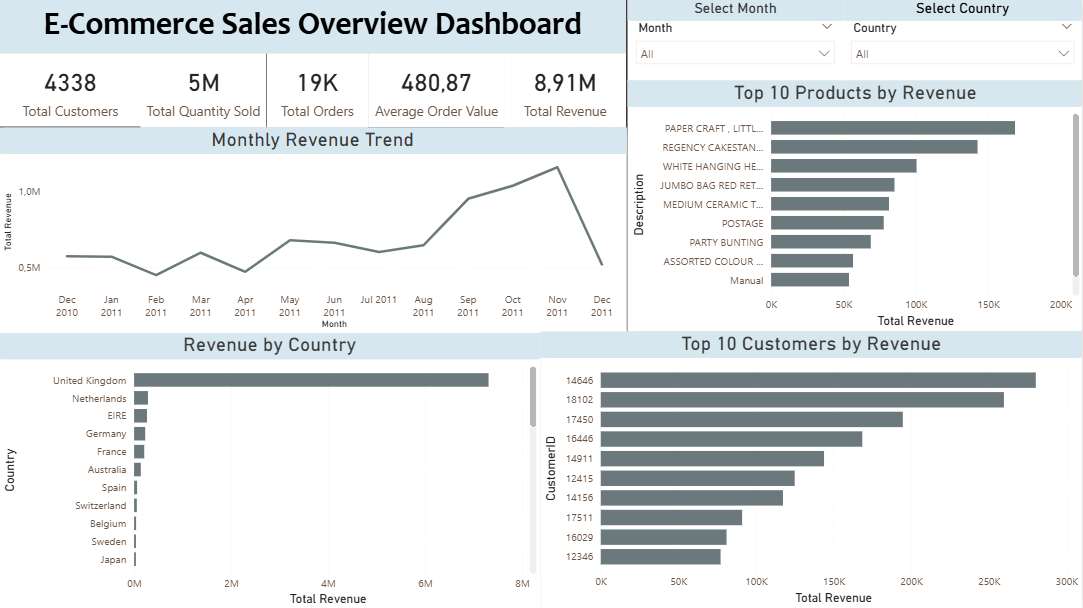

The page's visual inventory and layout, read from the dashboard file:
{"tool":"powerbi","page":{"name":"Sales Overview","canvas":[1280,720],"ordinal":0},"visuals":[{"type":"card","title":"Total Revenue","fields":{"Values":["Online Retail.Total Revenue"]},"box":[597.1,62.9,144.3,88.6],"z":0},{"type":"card","fields":{"Values":["Online Retail.Total Orders"]},"box":[316.1,62.9,119.4,88.7],"z":1000},{"type":"card","fields":{"Values":["Online Retail.Total Customers"]},"box":[0,62.9,168.6,87.1],"z":2000},{"type":"card","fields":{"Values":["Online Retail.Total Quantity Sold"]},"box":[167.7,62.9,148.4,88.7],"z":3000},{"type":"card","fields":{"Values":["Online Retail.Average Order Value"]},"box":[435.4,63.1,161.5,87.7],"z":4000},{"type":"lineChart","title":"Monthly Revenue Trend","fields":{"Y":["Online Retail.Total Revenue"],"Category":["Online Retail.Month"]},"box":[0,150,741.4,242.9],"z":5000},{"type":"clusteredBarChart","title":"Revenue by Country","fields":{"Y":["Online Retail.Total Revenue"],"Category":["Online Retail.Country"]},"box":[0,392.9,640,327.1],"z":6000},{"type":"clusteredBarChart","title":"Top 10 Products by Revenue","fields":{"Category":["Online Retail.Description"],"Y":["Online Retail.Total Revenue"]},"box":[741.9,95.2,538.7,296.8],"z":7000},{"type":"clusteredBarChart","title":"Top 10 Customers by Revenue","fields":{"Category":["Online Retail.CustomerID"],"Y":["Online Retail.Total Revenue"]},"box":[639.4,392.4,640.9,327.3],"z":8000},{"type":"textbox","box":[0,0,740.9,63.6],"z":9000},{"type":"slicer","title":"Select Country ","fields":{"Values":["Online Retail.Country"]},"box":[996.8,0,283.9,95.2],"z":10000},{"type":"slicer","title":"Select Month","fields":{"Values":["Online Retail.Month"]},"box":[741.9,0,254.8,95.2],"z":11000}]}

Visuals, with their boxes in screenshot pixels (x1, y1, x2, y2), scaled from the page's 1280x720 canvas onto the 1083x608 screenshot:
"Total Revenue" card: box(505, 53, 627, 128)
card - Online Retail.Total Orders: box(267, 53, 368, 128)
card - Online Retail.Total Customers: box(0, 53, 143, 127)
card - Online Retail.Total Quantity Sold: box(142, 53, 267, 128)
card - Online Retail.Average Order Value: box(368, 53, 505, 127)
"Monthly Revenue Trend" lineChart: box(0, 127, 627, 332)
"Revenue by Country" clusteredBarChart: box(0, 332, 542, 607)
"Top 10 Products by Revenue" clusteredBarChart: box(628, 80, 1082, 331)
"Top 10 Customers by Revenue" clusteredBarChart: box(541, 331, 1082, 607)
textbox: box(0, 0, 627, 54)
"Select Country " slicer: box(843, 0, 1082, 80)
"Select Month" slicer: box(628, 0, 843, 80)
